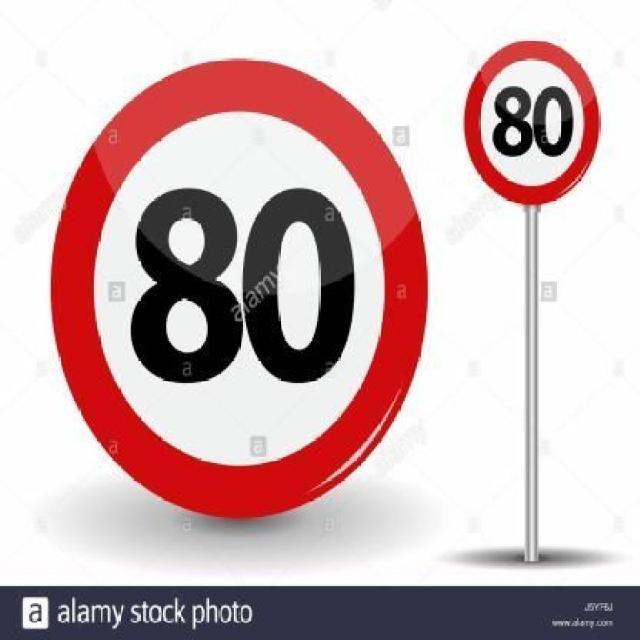forb_speed_over_80: (57, 58, 428, 519), (466, 40, 603, 203)
